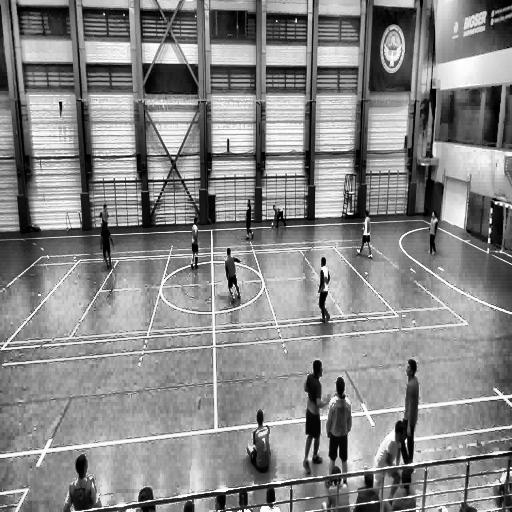ball: (270, 221, 276, 226)
player: (325, 377, 351, 479), (303, 360, 326, 472), (402, 360, 419, 465), (248, 410, 272, 475), (317, 256, 331, 324), (224, 247, 241, 300), (356, 210, 372, 260), (100, 220, 114, 270), (426, 210, 438, 256), (190, 217, 200, 269), (245, 199, 254, 239), (274, 204, 287, 228), (100, 201, 110, 225)
